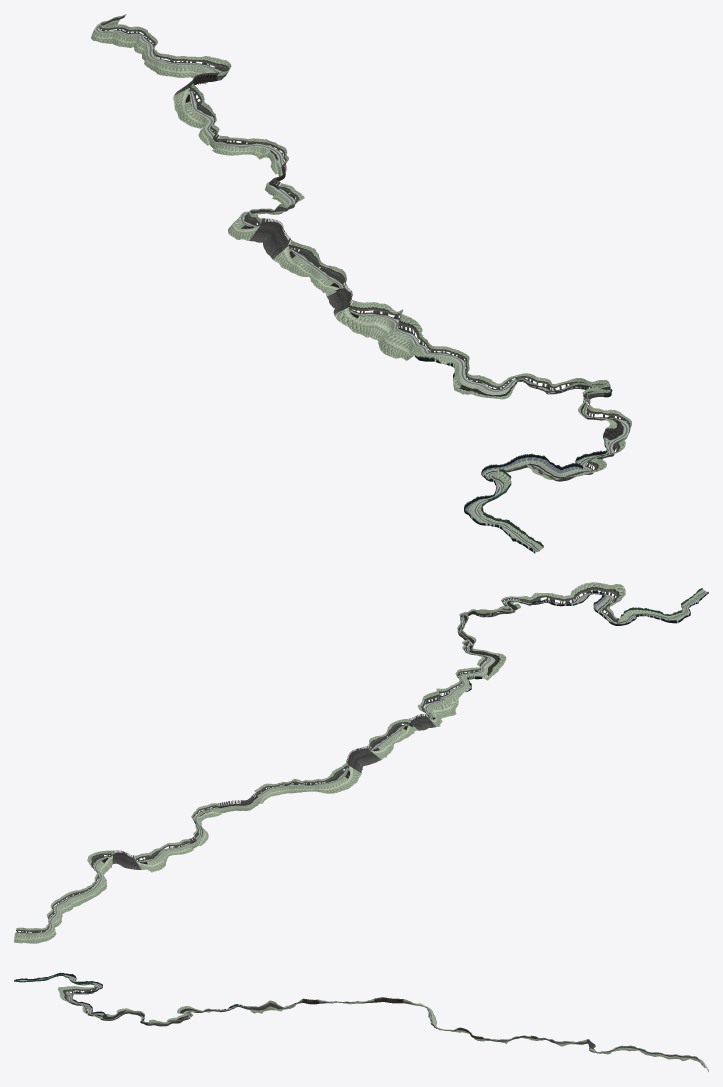
File: course-al3.glb
3 renders of one model, top to bottom at view 1: azimuth 30°, elevation 25°; view 2: azimuth 150°, elevation 25°; view 3: azimuth 270°, elevation 25°, orthographic. The views are drawn at different scales.
Parts seen in each view (by area): view 1: course-al3; view 2: course-al3; view 3: course-al3.
Boxes of the visible parts, x1,y1,x2,y2 form: course-al3: (91,14,631,553); course-al3: (14,582,708,943); course-al3: (14,972,708,1071).
Size of the model in its own units: 2235 by 526 by 9033.
Materials: 65 (65 with a texture image).
